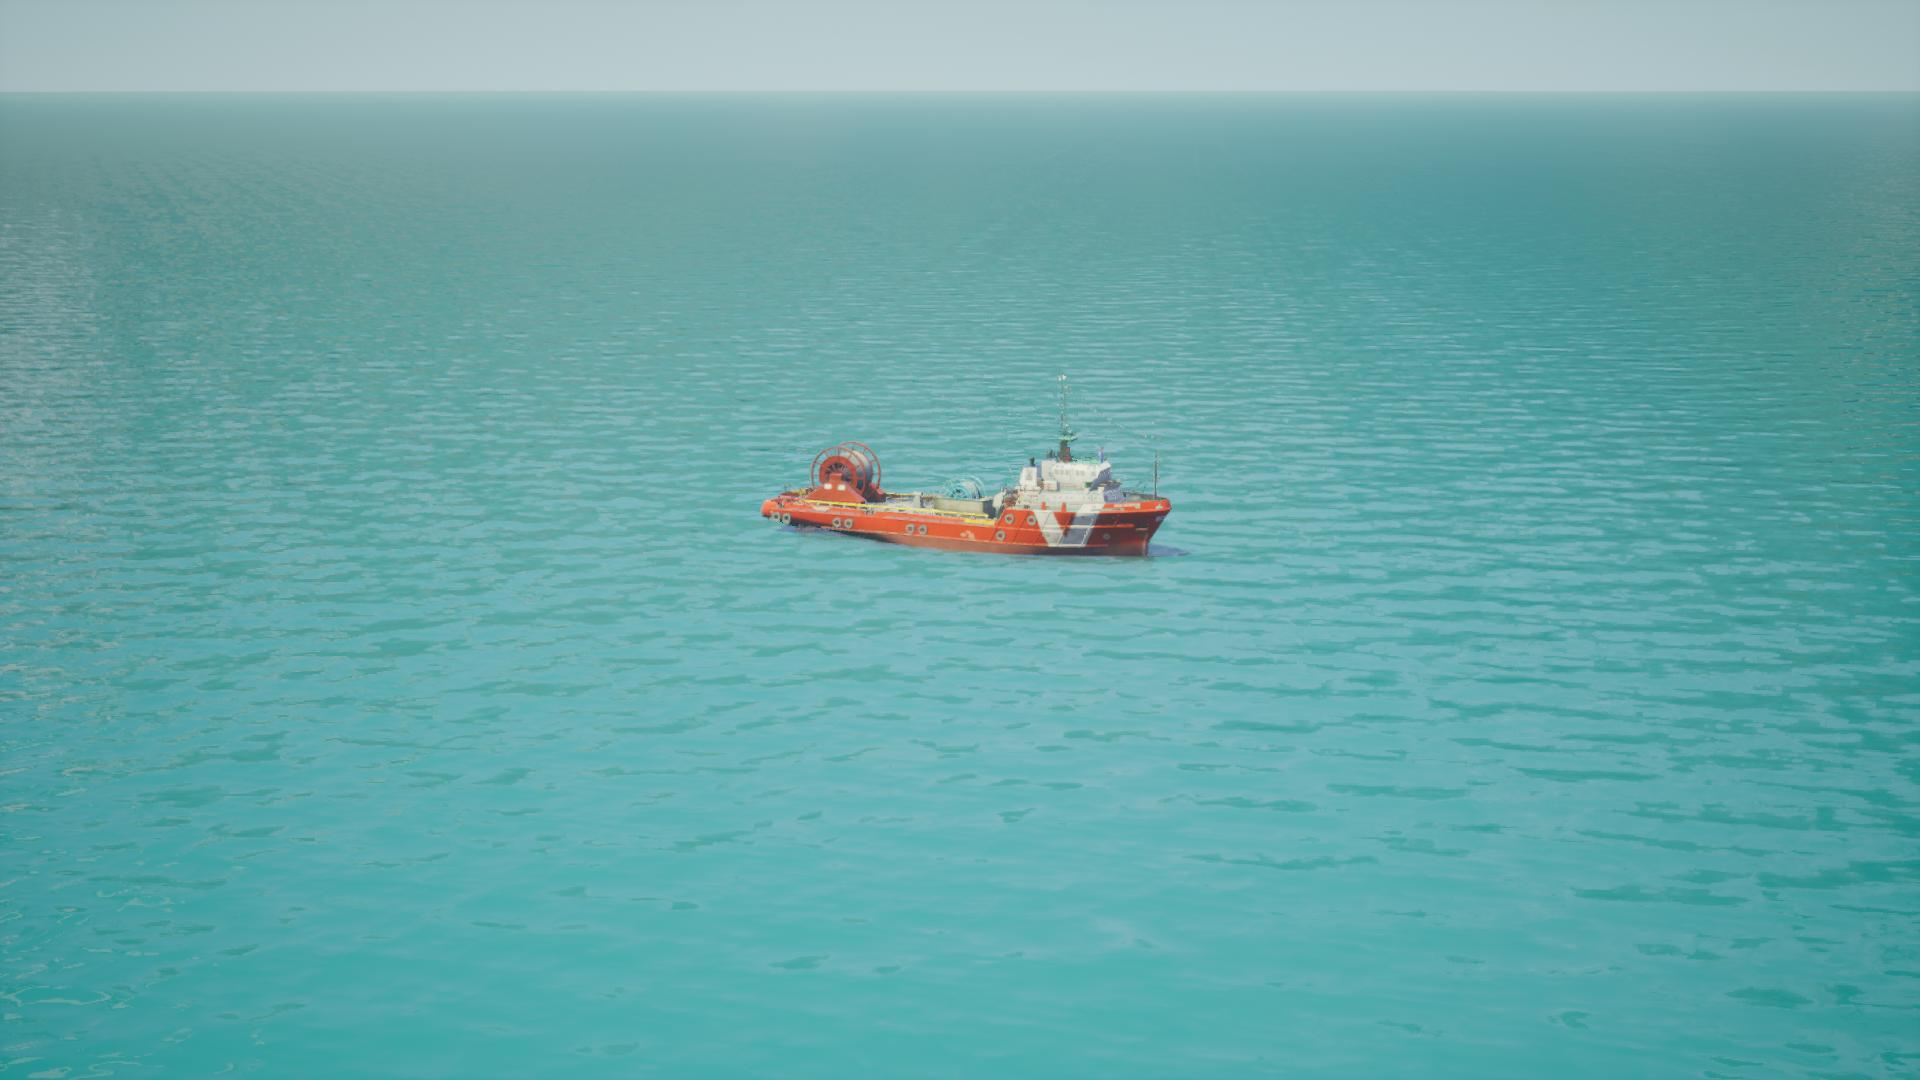Tug Boat: (754, 426, 1183, 564)
